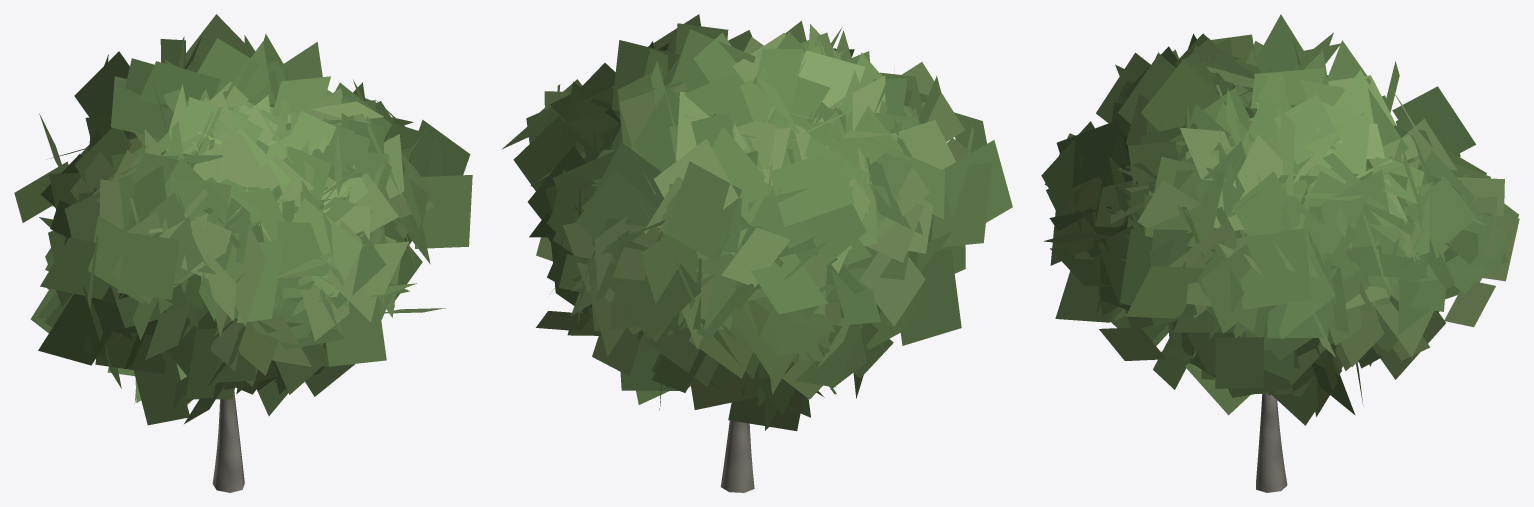
File: beech_1.glb
3 views of the same model, side by side, from view 1: azimuth 30°, elevation 25°; view 2: azimuth 150°, elevation 25°; view 3: azimuth 270°, elevation 25° (orthographic). The views are drawn at different scales.
Visible parts, largest first — view 1: beech_1; view 2: beech_1; view 3: beech_1.
Boxes of the visible parts, x1,y1,x2,y2 form: beech_1: (14, 14, 472, 492); beech_1: (501, 14, 1012, 492); beech_1: (1041, 14, 1519, 492).
Size of the model in its own units: 1 by 1 by 0.9866.
